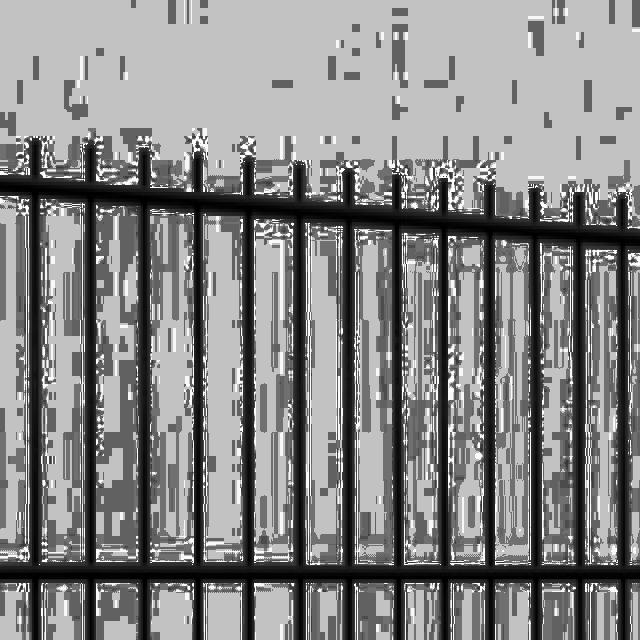fences: (13, 151, 640, 639)
